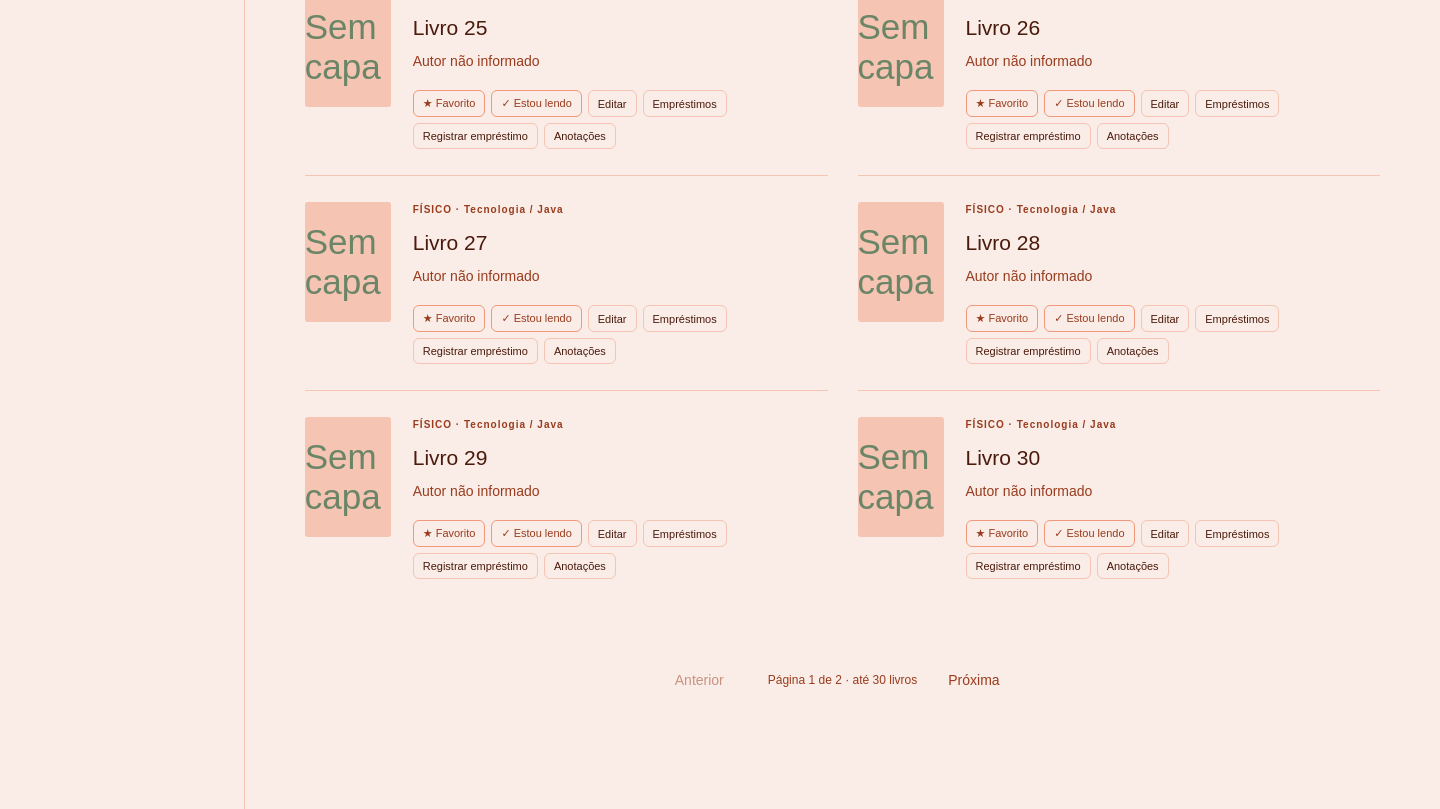
catálogo web › limita a lista a 30 livros por página
(page scrolled)
Expected: the heading "Livro 30" is shown, [966,446,1040,469]
Expected: the heading "Livro 31" is not shown
Click the button "Próxima": click(979, 680) [933,661,1025,699]
(page scrolled)
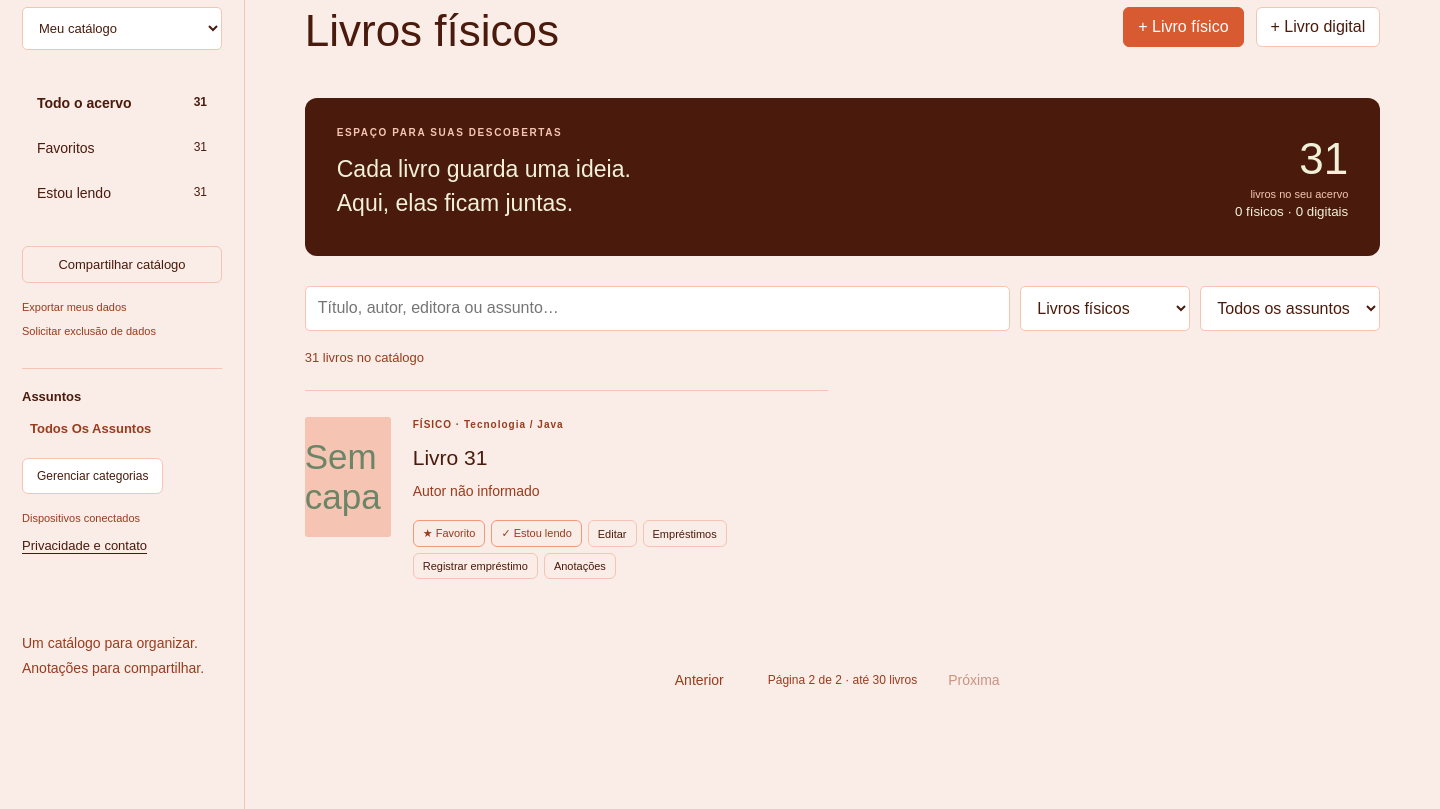
Expected: the heading "Livro 31" is shown, [413,446,488,469]
Expected: the text "Página 2 de 2 · até 30 livros" is shown, [768,673,917,687]
